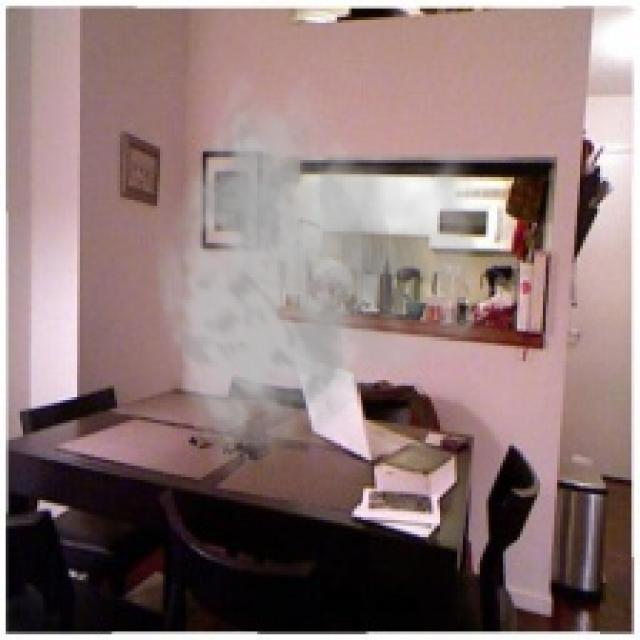Smoke: (154, 66, 509, 477)
